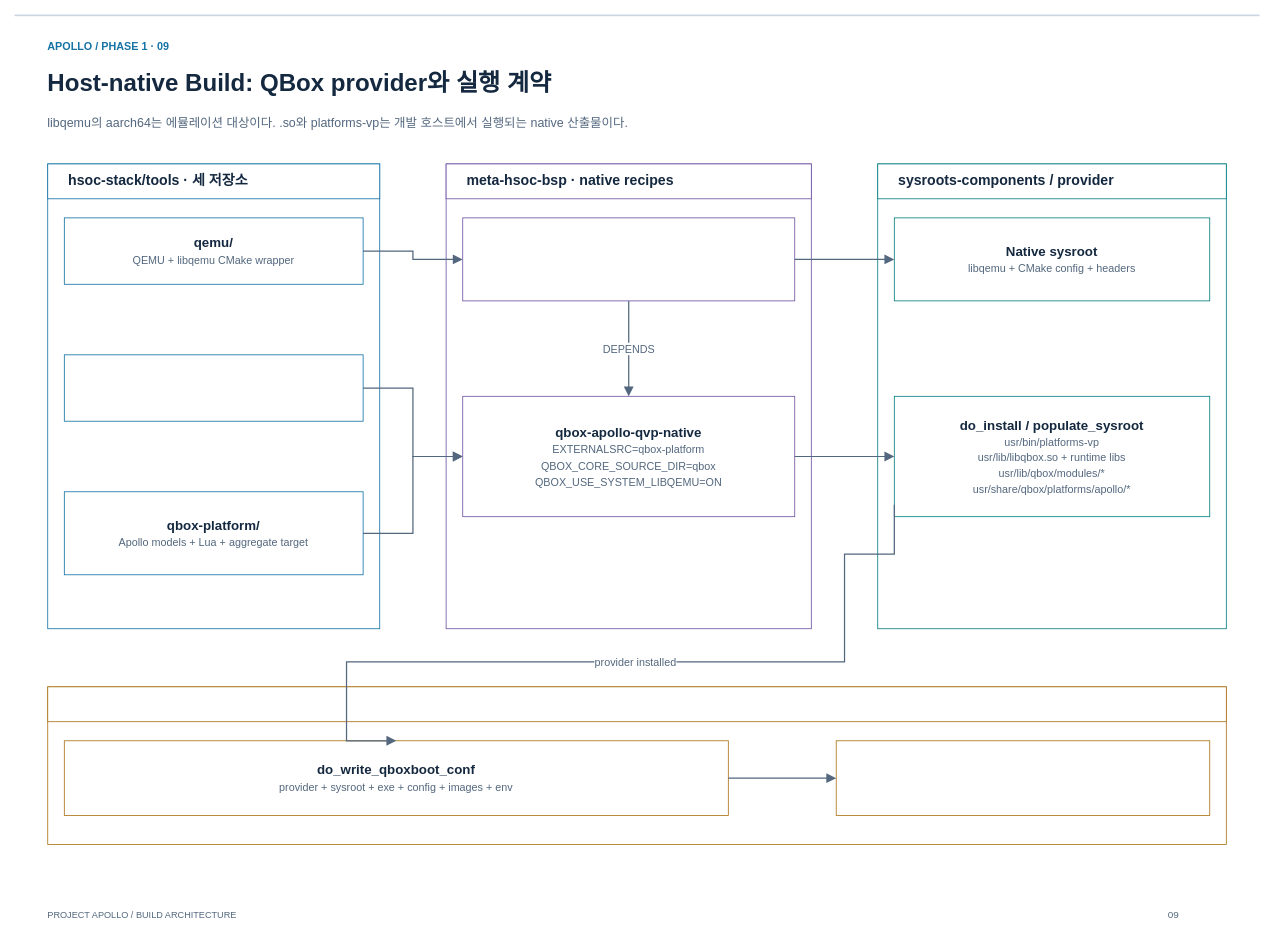
This 1273x950 diagram has some shape labels left out. The shapes that lost their labels are listed below. From the top down, each one's centre as x and y in pixels, then its label:
the point at 628,259: qbox-libqemu-native EXTERNALSRC=qemu → libqemu-system-aarch64.so
the point at 213,387: qbox/ 재사용 core / SystemC 연동
the point at 636,704: image class · qboxboot
the point at 1022,777: run_qbox_yocto.sh paths / library search / CCI inputs
